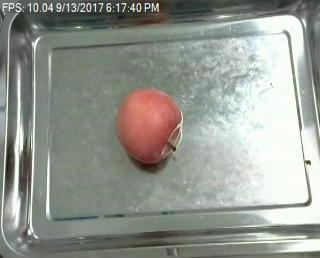apple: (113, 88, 186, 165)
